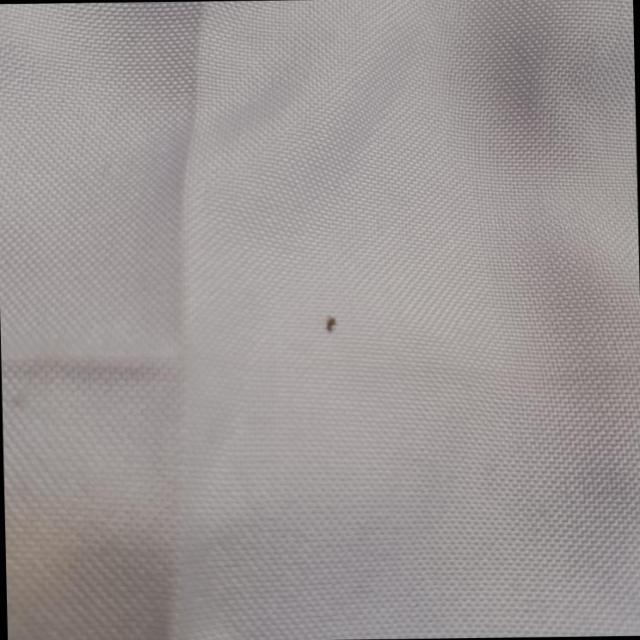stain: (310, 305, 360, 345)
